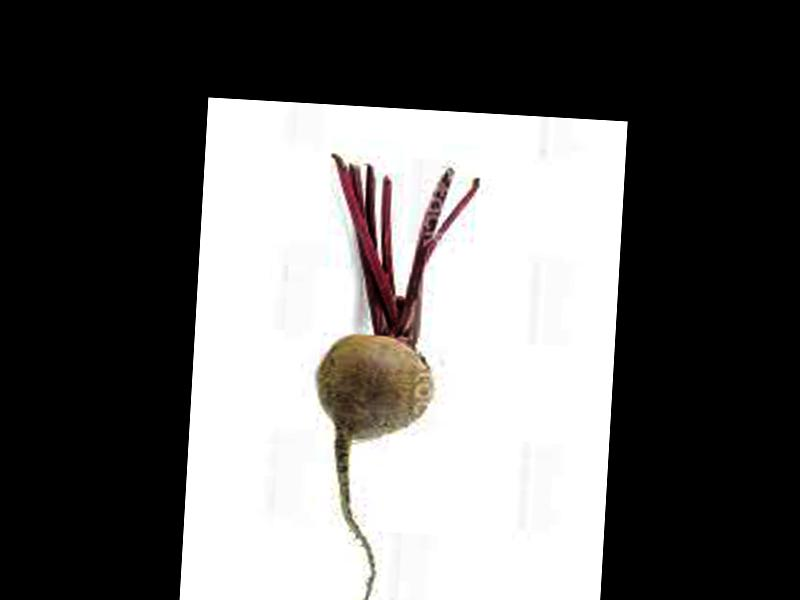Beet: (303, 155, 477, 600)
